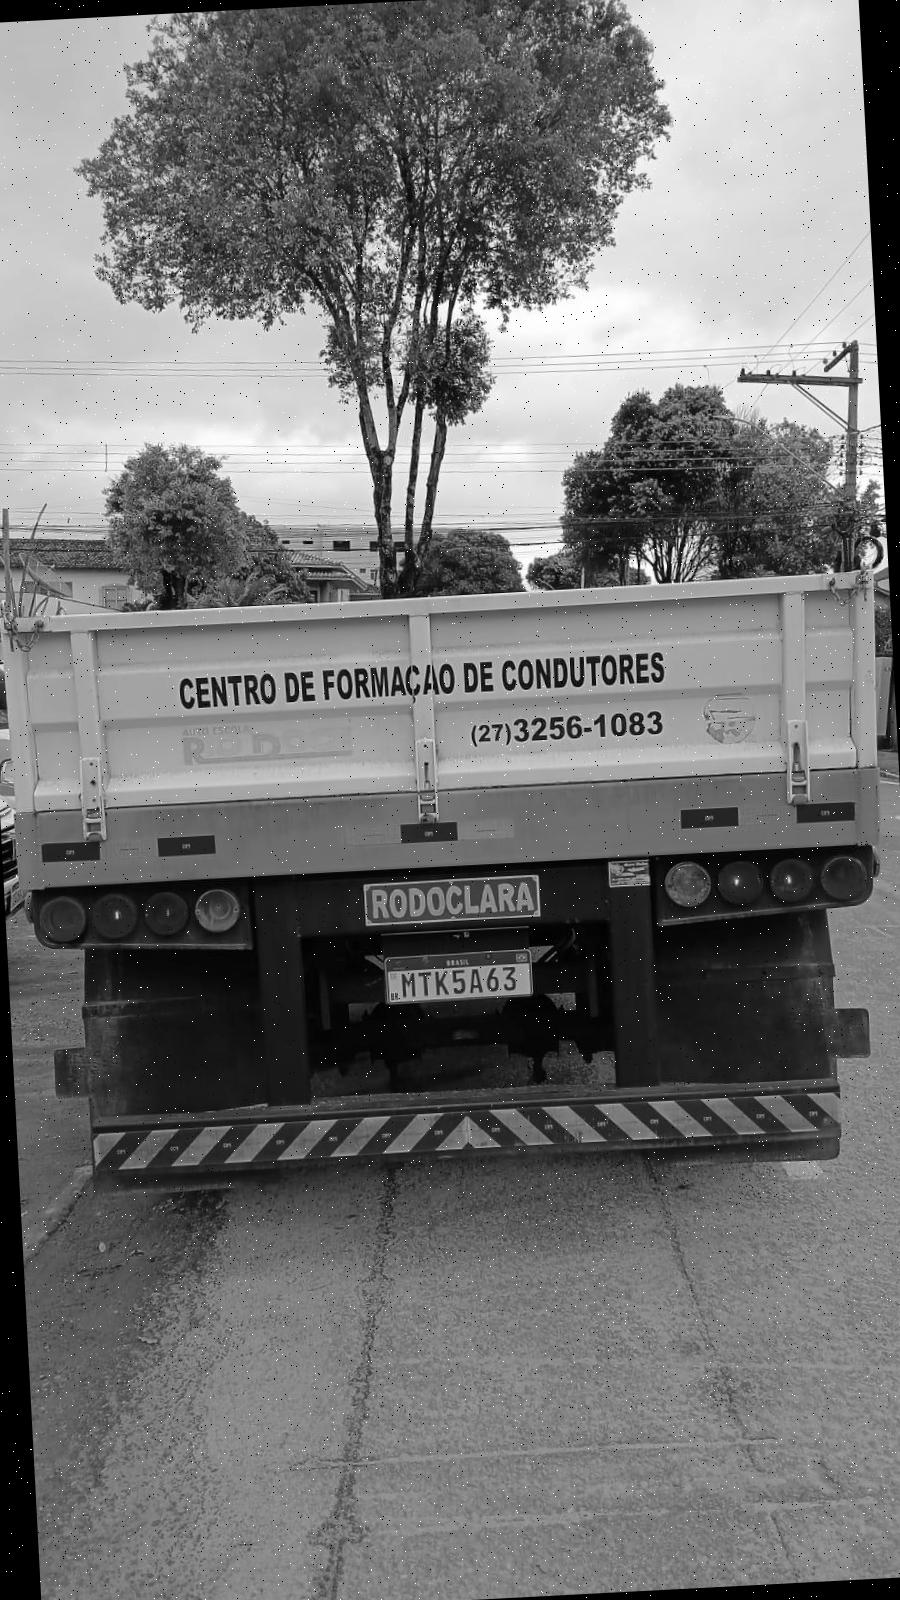placa_mercosul: (385, 950, 532, 1005)
